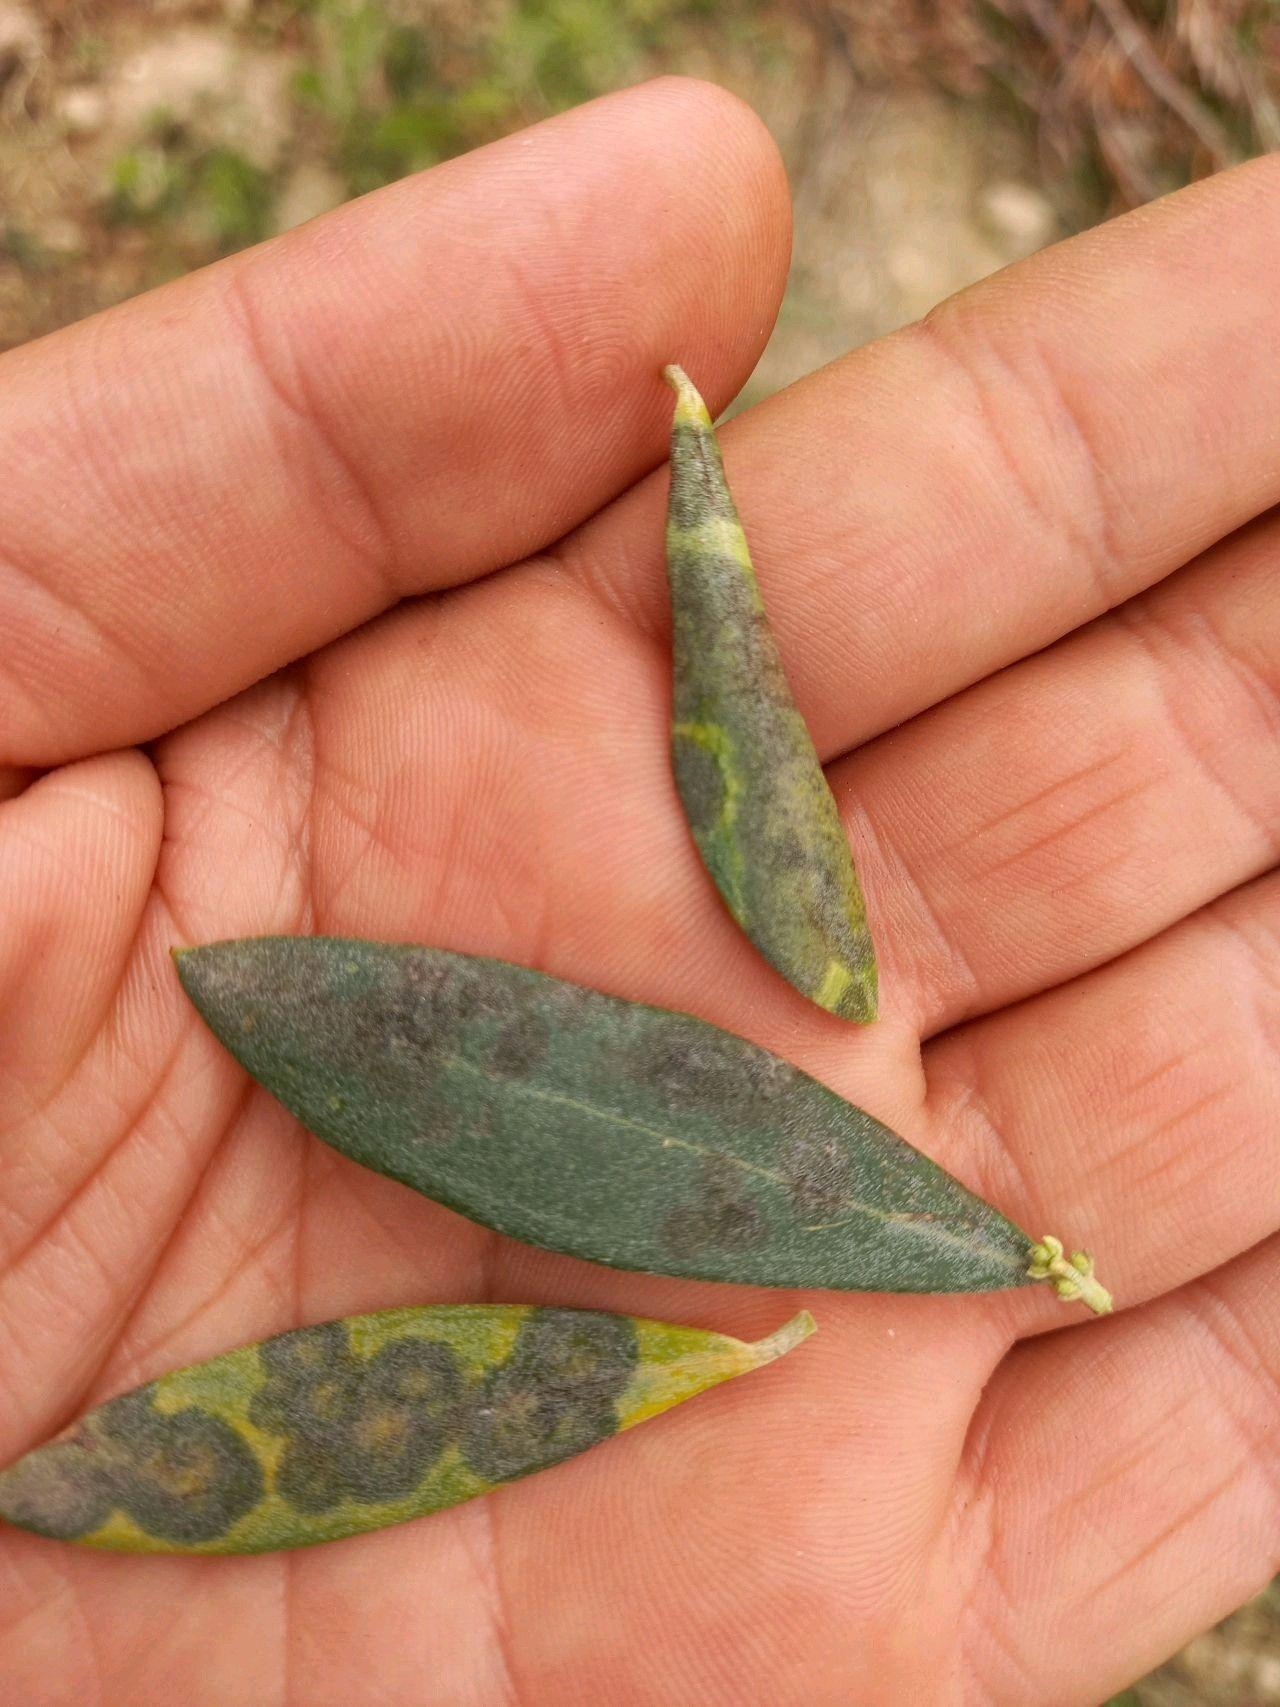OlivePeacockSpot: (170, 940, 1064, 1306), (0, 1306, 771, 1568), (667, 394, 879, 1021)
